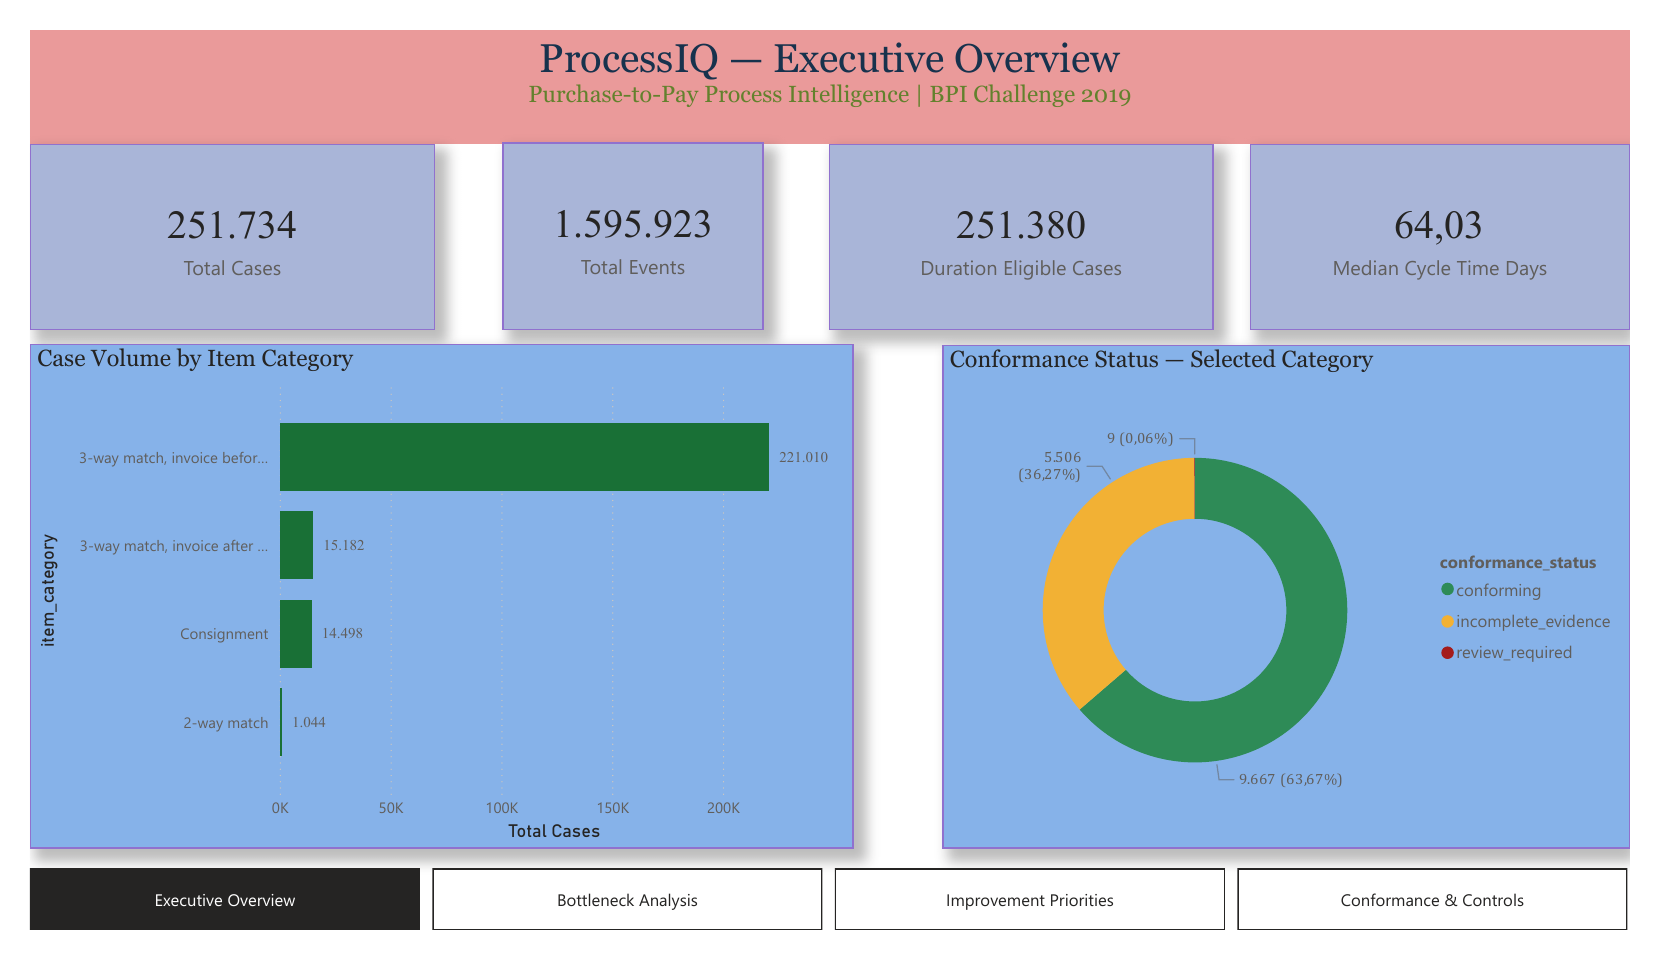

What the dashboard file says about the page in this screenshot:
{"tool":"powerbi","page":{"name":"Executive Overview","canvas":[1280,720],"ordinal":0},"visuals":[{"type":"textbox","box":[0,0,1280.3,90.6],"z":0},{"type":"card","fields":{"Values":["dashboard_cases.Total Cases"]},"box":[0,90.6,323.8,149.6],"z":1000},{"type":"card","fields":{"Values":["dashboard_cases.Total Events"]},"box":[378.3,90,208.3,150],"z":2000},{"type":"card","fields":{"Values":["dashboard_cases.Duration Eligible Cases"]},"box":[639.5,90.6,307.4,149.6],"z":3000},{"type":"card","fields":{"Values":["dashboard_cases.Median Cycle Time Days"]},"box":[975.6,90.6,304.6,149.6],"z":4000},{"type":"clusteredBarChart","title":"Case Volume by Item Category","fields":{"Category":["dashboard_cases.item_category"],"Y":["dashboard_cases.Total Cases"]},"box":[0,251.1,658.7,403.4],"z":5000},{"type":"donutChart","title":"Conformance Status — Selected Category","fields":{"Category":["dashboard_cases.conformance_status"],"Y":["dashboard_cases.Conformance Scope Cases"]},"box":[730,251.7,550,403.3],"z":6000},{"type":"pageNavigator","box":[0,670.6,1280.3,49.4],"z":7000}]}

Visuals, with their boxes in screenshot pixels (x1, y1, x2, y2), scaled from the page's 1280x720 canvas onto the 1660x960 screenshot:
textbox: bbox=(0, 0, 1659, 121)
card - dashboard_cases.Total Cases: bbox=(0, 121, 420, 320)
card - dashboard_cases.Total Events: bbox=(491, 120, 761, 320)
card - dashboard_cases.Duration Eligible Cases: bbox=(829, 121, 1228, 320)
card - dashboard_cases.Median Cycle Time Days: bbox=(1265, 121, 1659, 320)
"Case Volume by Item Category" clusteredBarChart: bbox=(0, 335, 854, 873)
"Conformance Status — Selected Category" donutChart: bbox=(947, 336, 1659, 873)
pageNavigator: bbox=(0, 894, 1659, 959)
